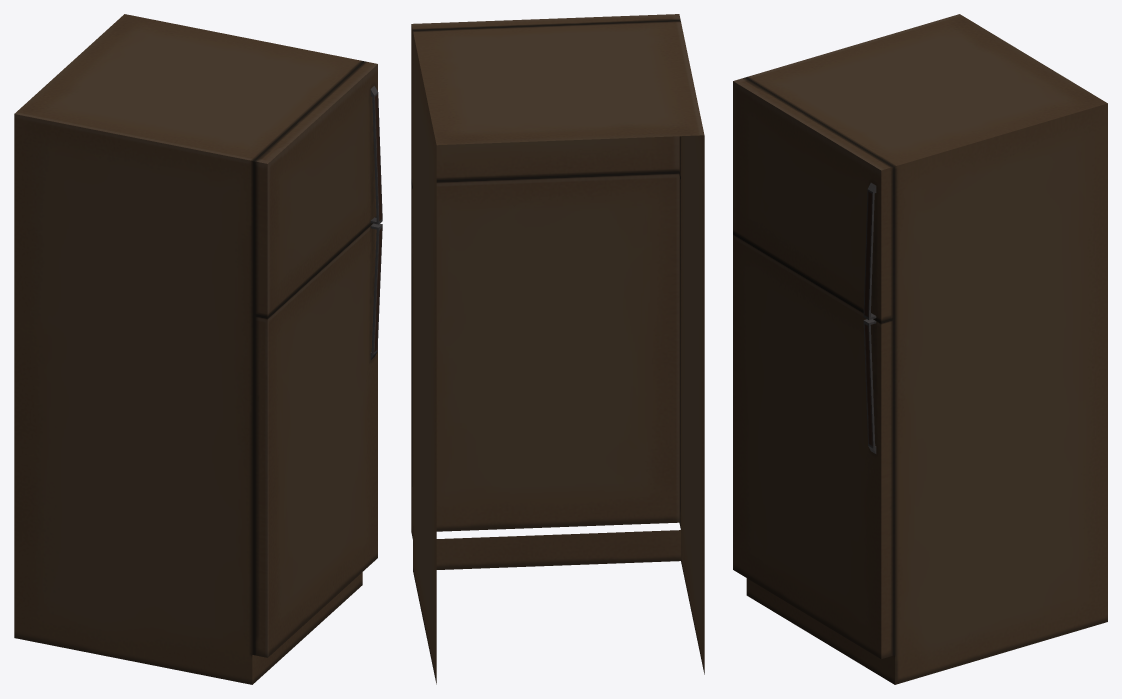
Rendered from Fridge.FBX.
3 views of the same model, side by side, from view 1: azimuth 30°, elevation 25°; view 2: azimuth 150°, elevation 25°; view 3: azimuth 270°, elevation 25° (orthographic). The views are drawn at different scales.
Parts seen in each view (by area): view 1: Layer0_001; view 2: Layer0_001; view 3: Layer0_001.
Boxes of the visible parts, x1=… form: Layer0_001: x1=14, y1=14, x2=382, y2=684; Layer0_001: x1=411, y1=14, x2=704, y2=684; Layer0_001: x1=733, y1=14, x2=1107, y2=684.
Size of the model in its own units: 40.14 by 62 by 40.63.
